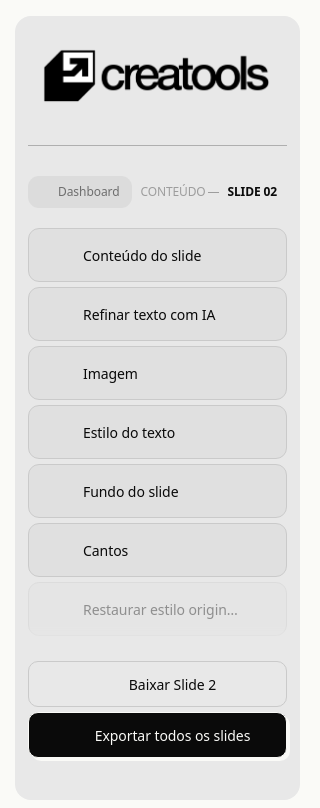
TEMPLATE 2 — conteúdo do slide › acusa o estouro do limite
Click the button "Conteúdo do slide" at [158, 255], box [29,229,286,281]
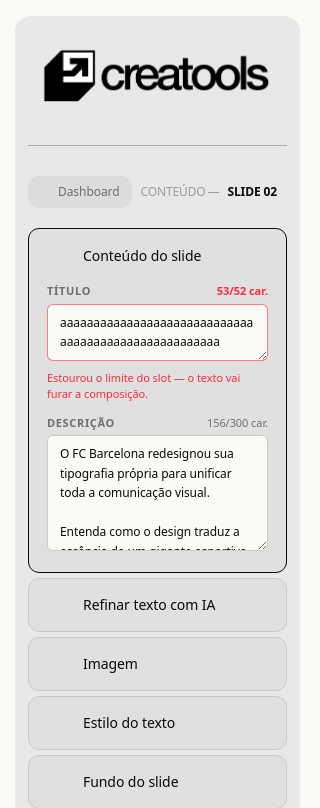
Result: the text "Estourou o limite do slot — o texto vai furar a composição." is shown at [47,370,268,402]
